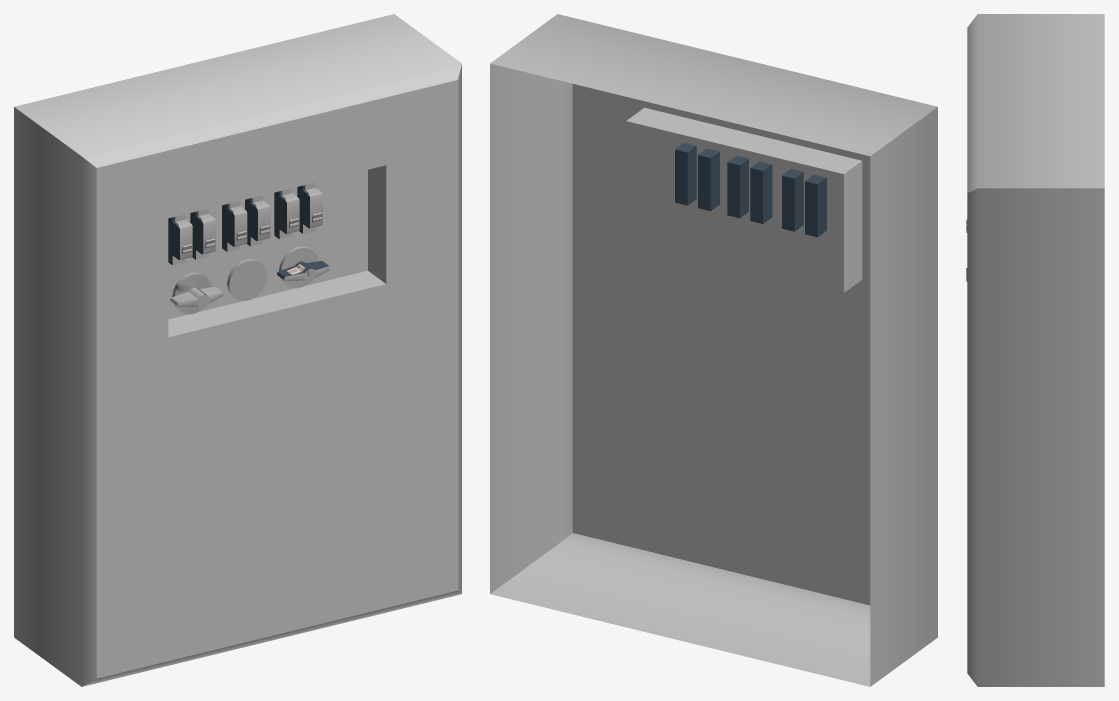
Rendered from Fuzebox_03_Body.FBX.
The picture shows the model from 3 angles, left to right: view 1: azimuth 30°, elevation 25°; view 2: azimuth 150°, elevation 25°; view 3: azimuth 270°, elevation 25°; orthographic projection. The views are drawn at different scales.
Parts seen in each view (by area): view 1: Fuzebox_03_Body; view 2: Fuzebox_03_Body; view 3: Fuzebox_03_Body.
Boxes of the visible parts, x1=… form: Fuzebox_03_Body: x1=14, y1=14, x2=461, y2=686; Fuzebox_03_Body: x1=490, y1=14, x2=937, y2=686; Fuzebox_03_Body: x1=966, y1=14, x2=1104, y2=686.
Size of the model in its own units: 60 by 20.15 by 80.
